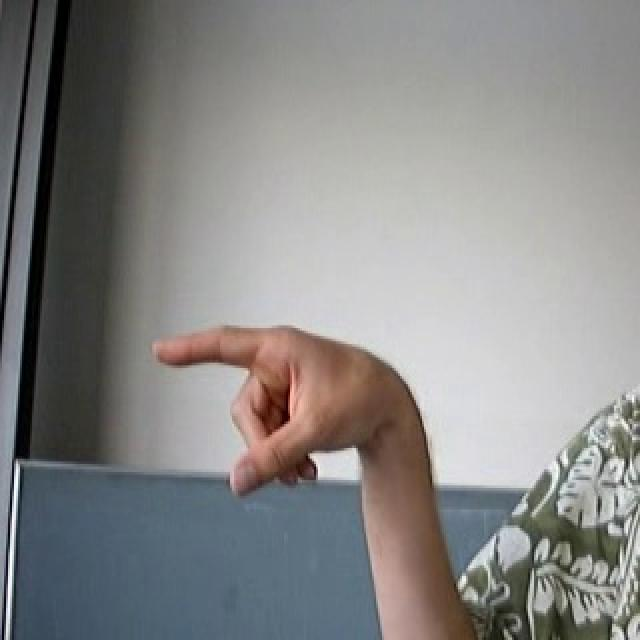P: (135, 304, 441, 510)
